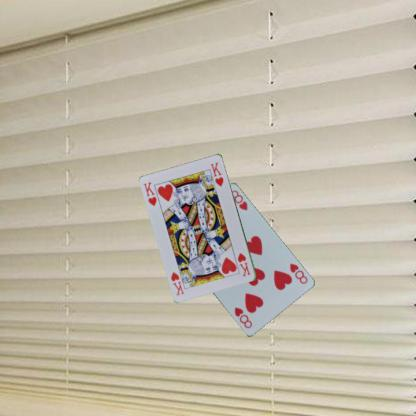8h: (286, 260, 308, 285)
Kh: (235, 250, 252, 278), (141, 180, 158, 207)
